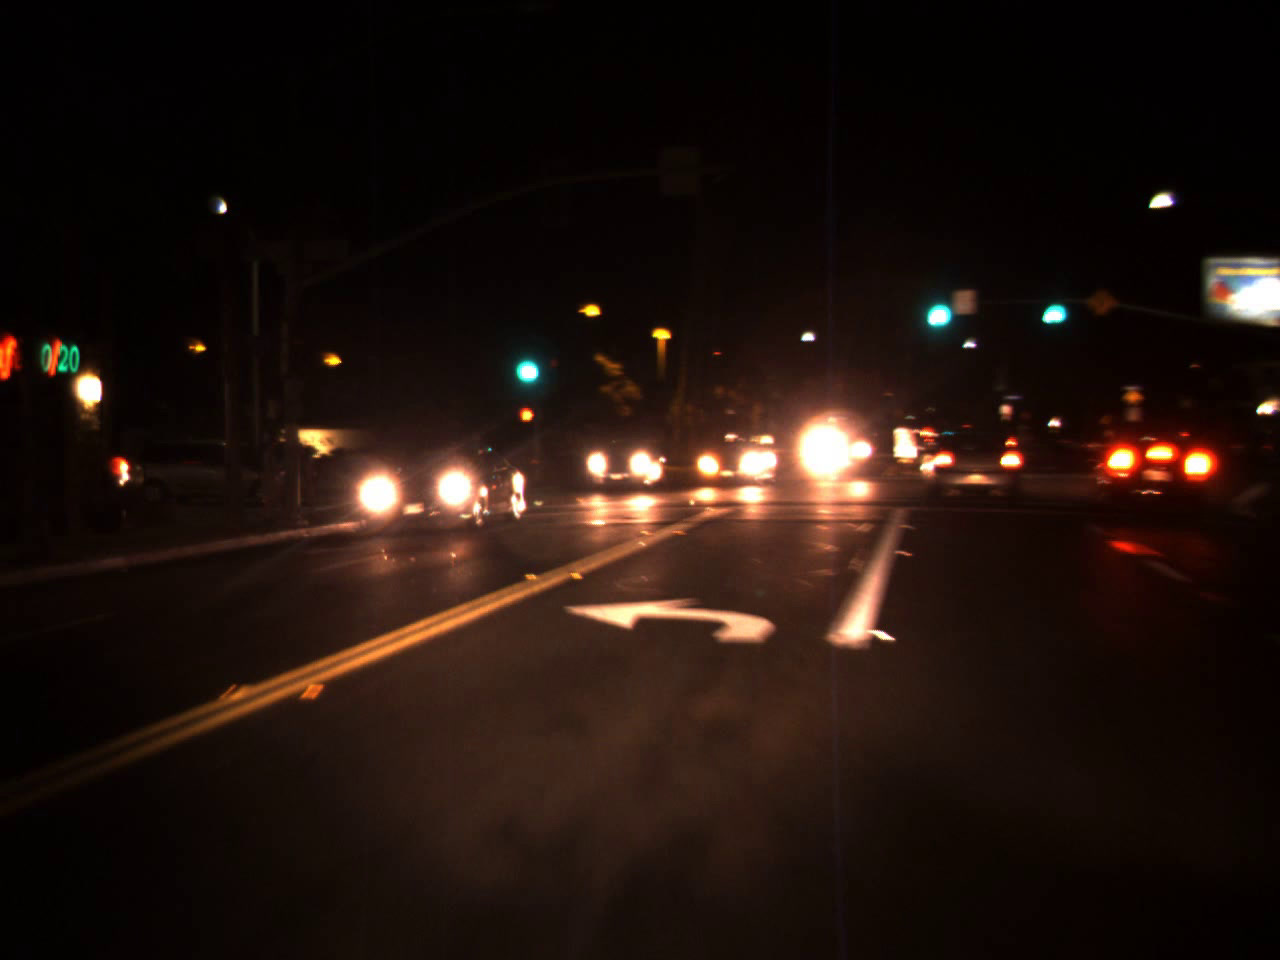go: (916, 273, 957, 336), (506, 332, 543, 392), (1033, 280, 1070, 331)
